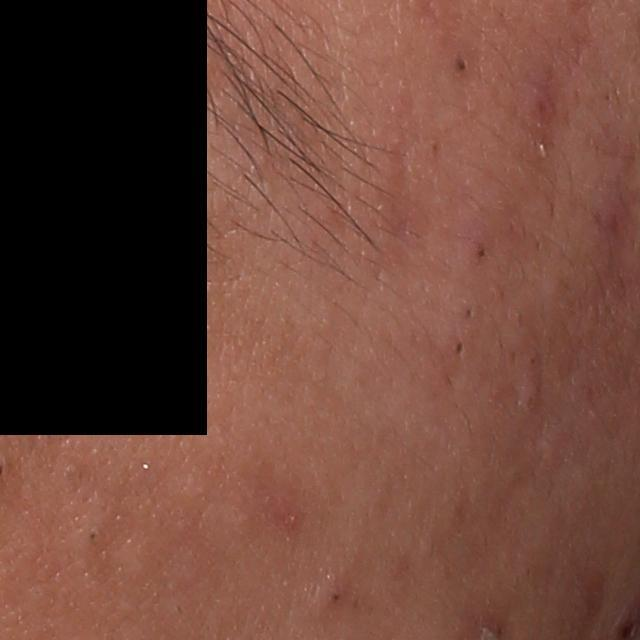comedo: (325, 585, 345, 612), (85, 523, 103, 548), (457, 302, 477, 323), (452, 54, 472, 74), (451, 340, 466, 365), (472, 244, 487, 263)
